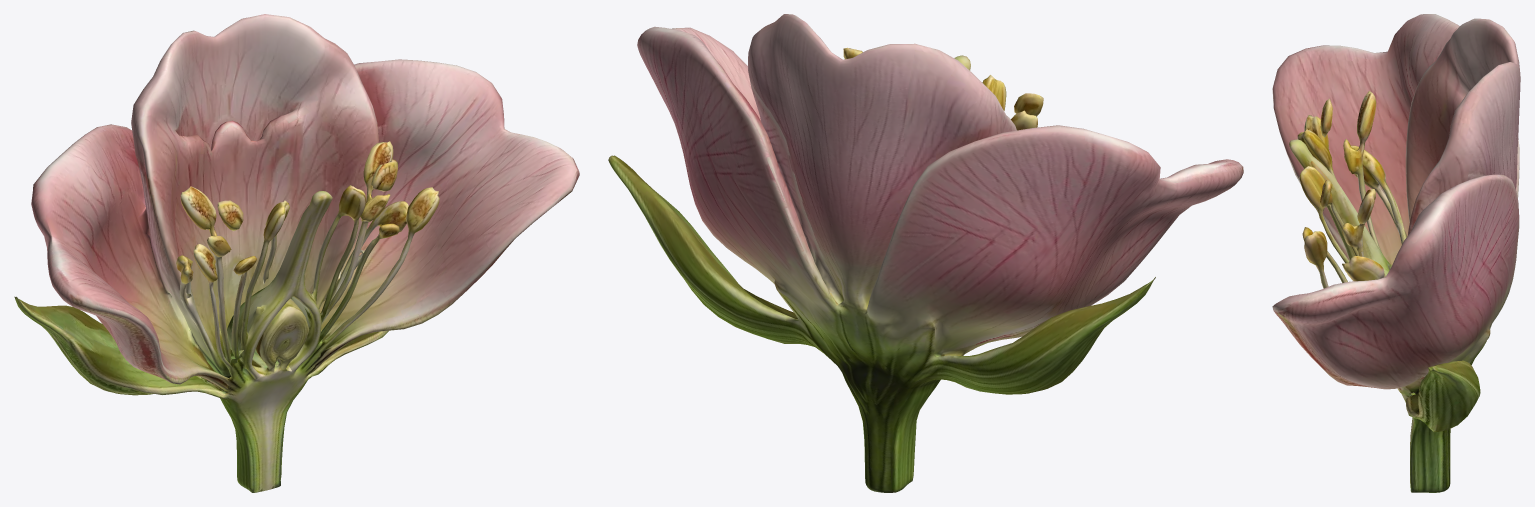
Rendered from flower.glb.
3 renders of one model, left to right at view 1: azimuth 30°, elevation 25°; view 2: azimuth 150°, elevation 25°; view 3: azimuth 270°, elevation 25°, orthographic. The views are drawn at different scales.
Visible parts, largest first — view 1: Mesh_0; view 2: Mesh_0; view 3: Mesh_0.
Boxes of the visible parts, box(x1,y1,x2,y2) form: Mesh_0: box(14, 14, 579, 492); Mesh_0: box(608, 14, 1243, 492); Mesh_0: box(1272, 14, 1520, 492).
Bounding box in the file's own units: 1.9 × 1.53 × 0.7791.
1 material, 1 textured.
